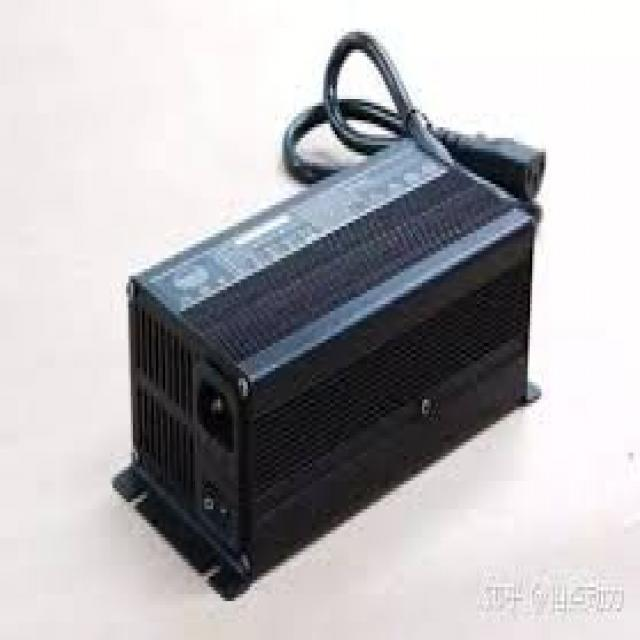battery: (121, 28, 548, 610)
